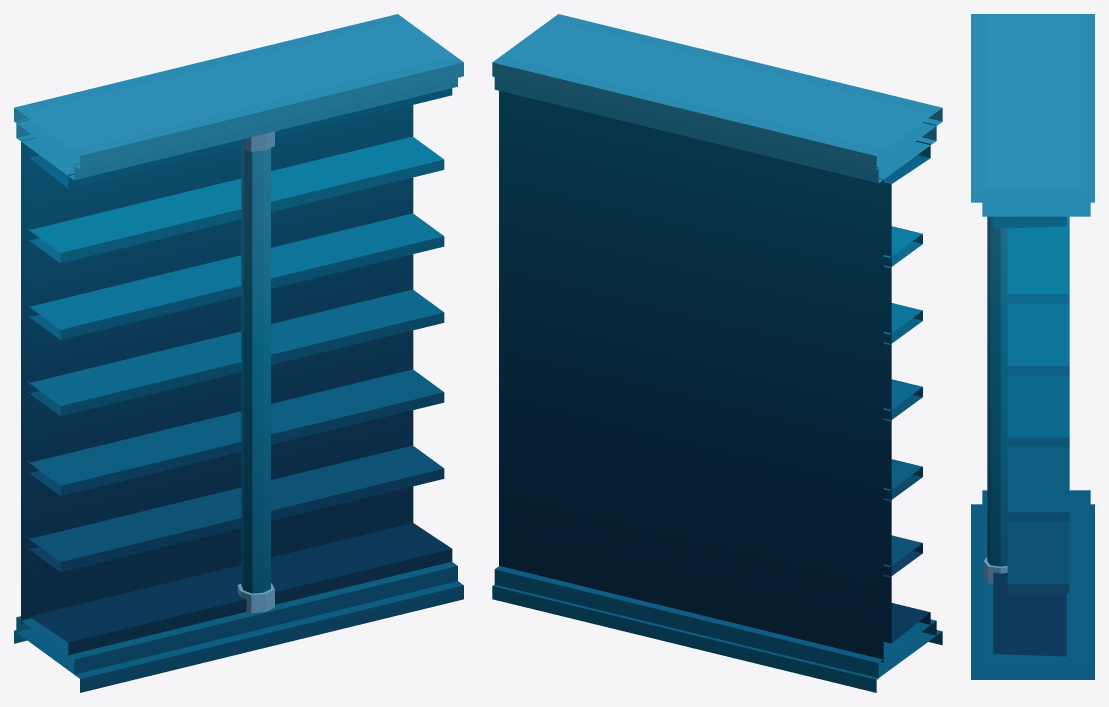
The model's file is Bookshelf 02.fbx.
The picture shows the model from 3 angles, left to right: view 1: azimuth 30°, elevation 25°; view 2: azimuth 150°, elevation 25°; view 3: azimuth 270°, elevation 25°; orthographic projection. The views are drawn at different scales.
Parts seen in each view (by area): view 1: Bookshelf 02 Center.001; view 2: Bookshelf 02 Center.001; view 3: Bookshelf 02 Center.001.
Boxes of the visible parts, x1,y1,x2,y2 form: Bookshelf 02 Center.001: (14, 14, 463, 692); Bookshelf 02 Center.001: (492, 14, 942, 692); Bookshelf 02 Center.001: (971, 14, 1094, 679).
Bounding box in the file's own units: 200 × 267 × 59.62.
